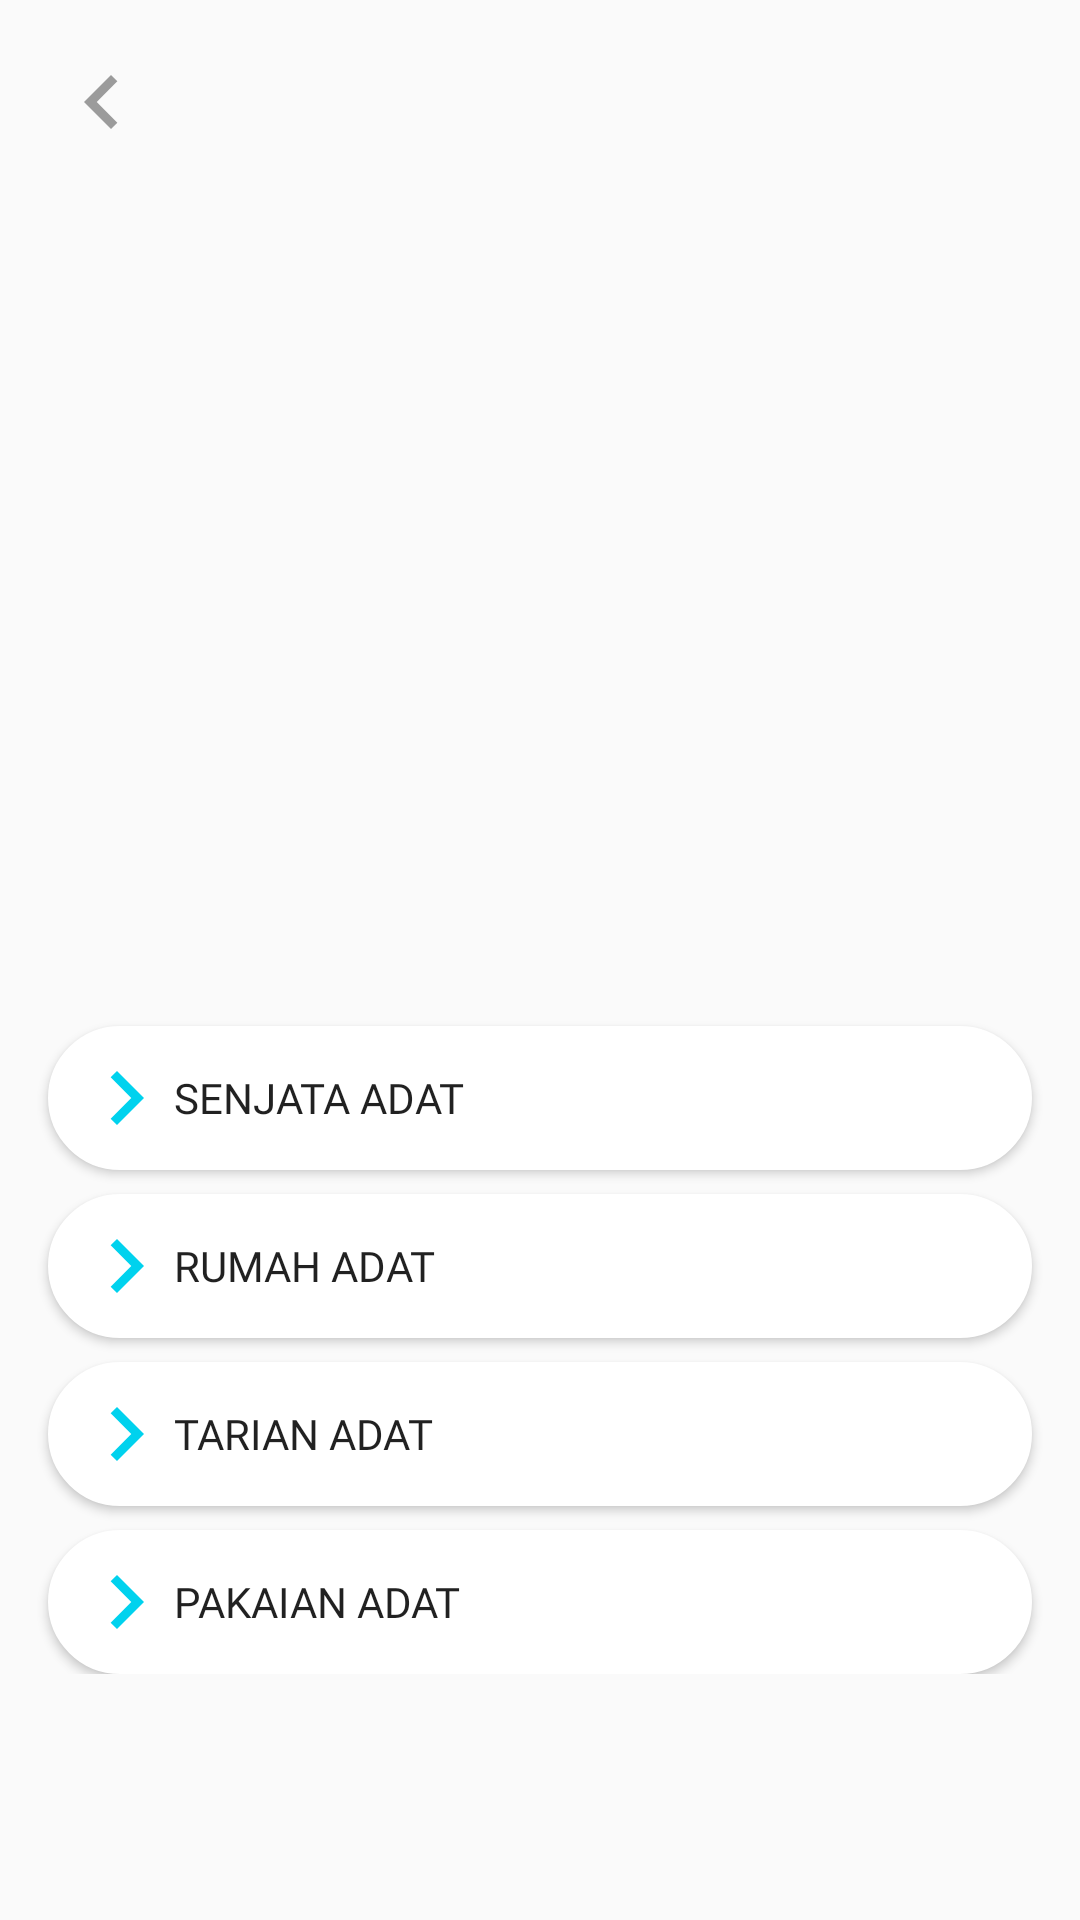

Named icons in this screenshot (1080px x 1920px) and their centers, [x,y]:
navigate before: [100,102]
navigate next: [127,1098], [127,1266], [127,1434], [127,1602]
